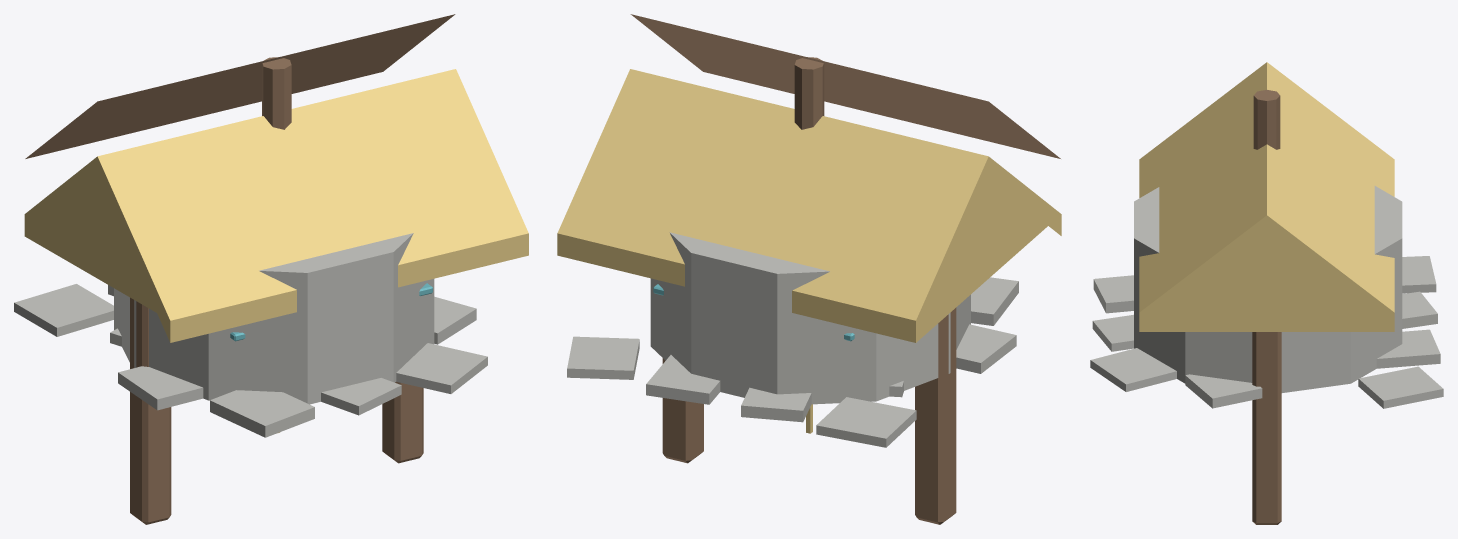
The model's file is town_town_well.glb.
3 renders of one model, left to right at view 1: azimuth 30°, elevation 25°; view 2: azimuth 150°, elevation 25°; view 3: azimuth 270°, elevation 25°, orthographic. The views are drawn at different scales.
Visible parts, largest first — view 1: world; view 2: world; view 3: world.
Boxes of the visible parts, x1=… form: world: x1=14, y1=14, x2=528, y2=524; world: x1=557, y1=14, x2=1061, y2=524; world: x1=1090, y1=62, x2=1443, y2=524.
Size of the model in its own units: 1.75 by 2 by 1.7.
